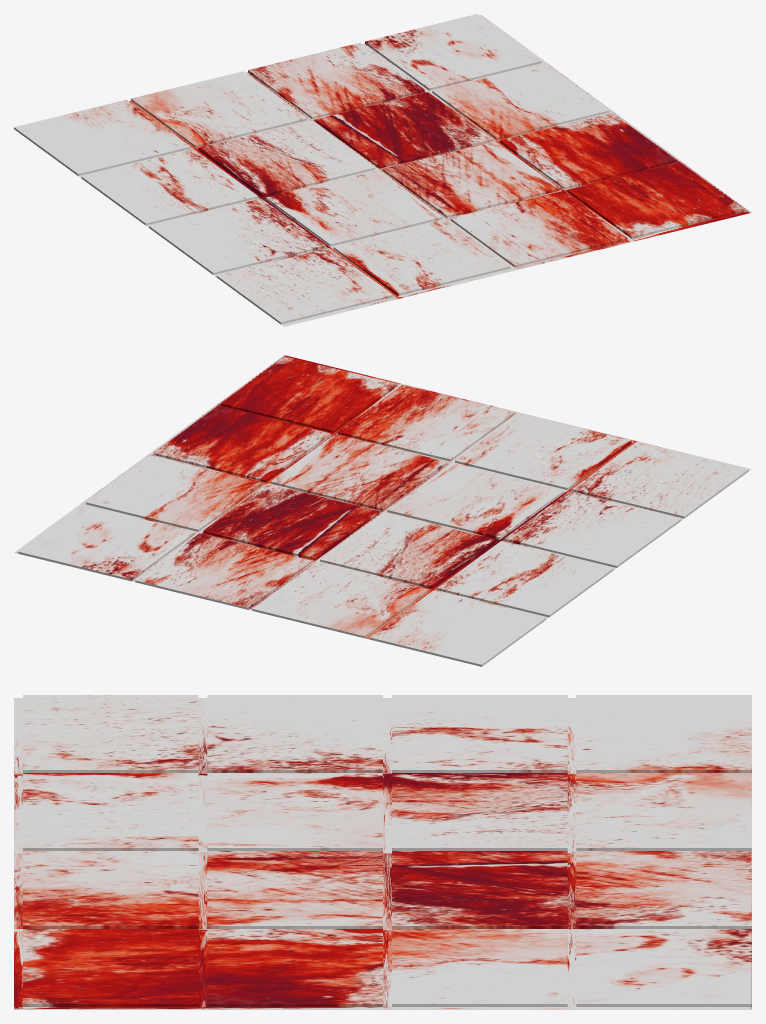
File: Piso_017.fbx
3 views of the same model, one above another, from view 1: azimuth 30°, elevation 25°; view 2: azimuth 150°, elevation 25°; view 3: azimuth 270°, elevation 25° (orthographic). The views are drawn at different scales.
Visible parts, largest first — view 1: Plane; view 2: Plane; view 3: Plane.
Part boxes in pixels (left/top/right/bottom): Plane: left=14, top=14, right=751, bottom=326; Plane: left=14, top=355, right=751, bottom=666; Plane: left=14, top=695, right=751, bottom=1009.
Size of the model in its own units: 600 by 2.51 by 600.
